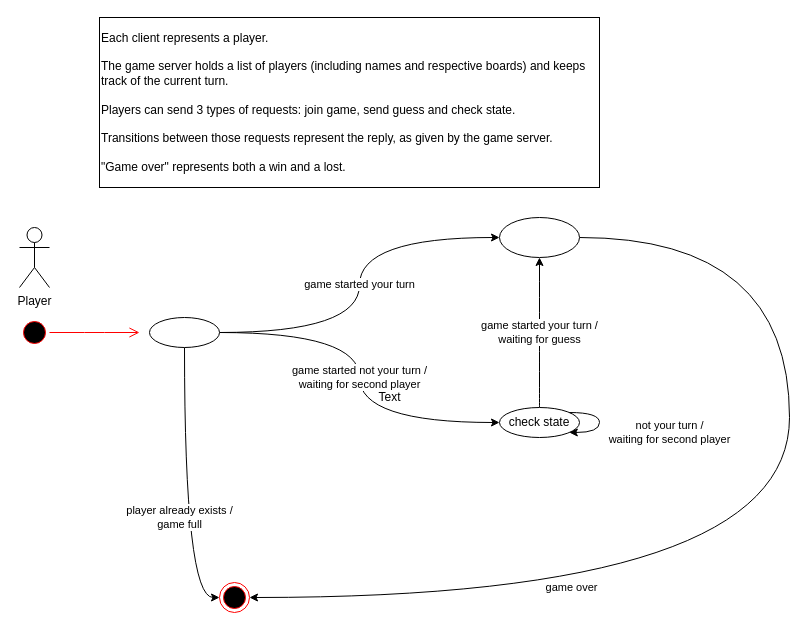
Image size: 807x630. Some labels were removed from this diagram. The centre of each missing label's shape, as x and y in pixels:
join game: pixel 184 332
send guess: pixel 539 237
